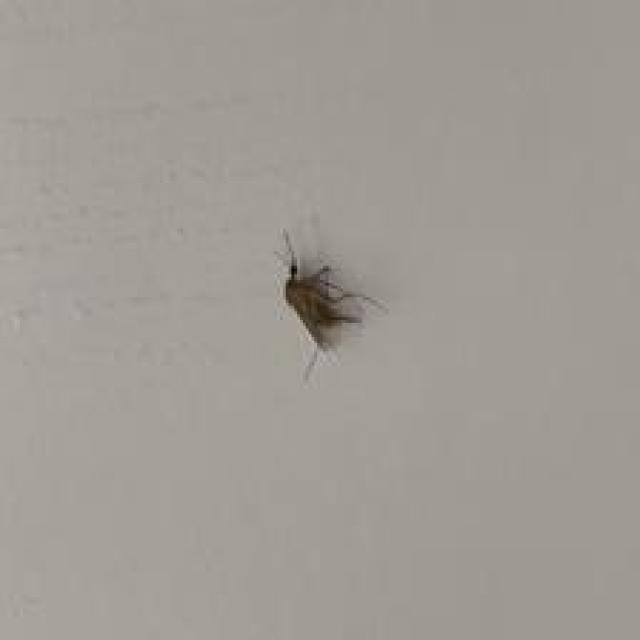Culex: (273, 227, 387, 382)
